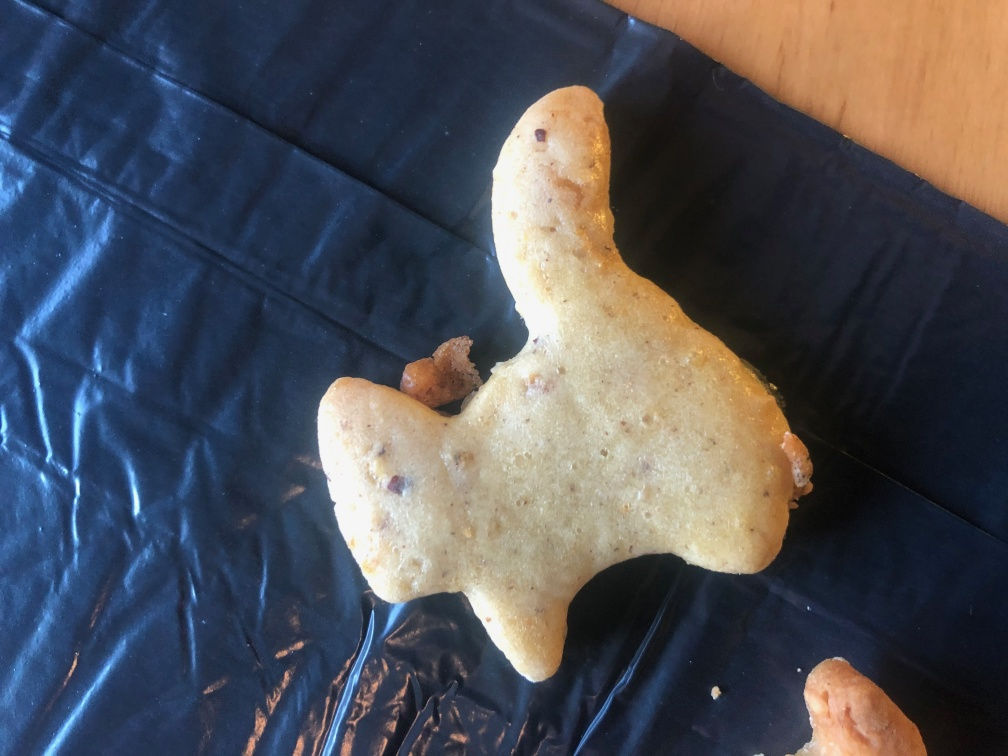squirrel: (284, 69, 816, 688)
